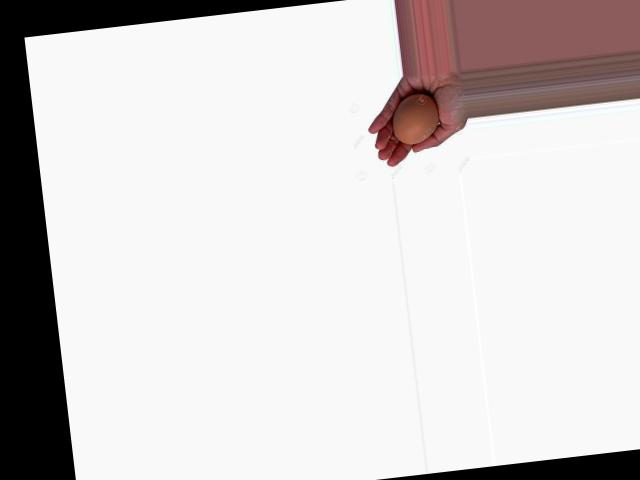egg: (388, 91, 441, 146)
